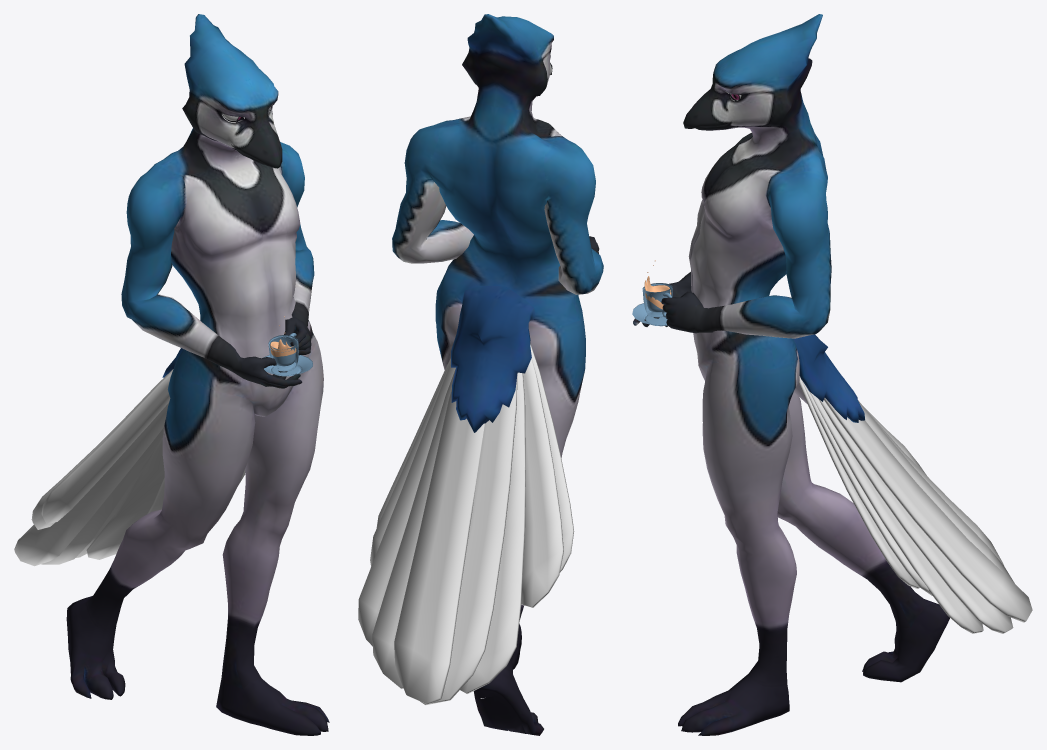
The model's file is SFDraco.gltf.
3 views of the same model, side by side, from view 1: azimuth 30°, elevation 25°; view 2: azimuth 150°, elevation 25°; view 3: azimuth 270°, elevation 25° (orthographic). The views are drawn at different scales.
Visible parts, largest first — view 1: BodyMesh_Naked_003, Plane_006, Plane_017, Plane_008, Plane_001, CupaTea_Plane_018_Dupli_; view 2: BodyMesh_Naked_003, Plane_007, Plane_006, Plane_008, Plane_001, Plane_016, Plane_017; view 3: BodyMesh_Naked_003, Plane_007, Plane_006, Plane_016, Plane_017, Plane_008, Plane_001.
Boxes of the visible parts, box(x1,y1,x2,y2) form: BodyMesh_Naked_003: box(66, 14, 329, 735); Plane_006: box(14, 403, 168, 566); Plane_017: box(41, 370, 245, 523); Plane_008: box(41, 427, 163, 564); Plane_001: box(31, 369, 173, 529); CupaTea_Plane_018_Dupli_: box(268, 335, 298, 371); BodyMesh_Naked_003: box(392, 14, 603, 735); Plane_007: box(394, 389, 484, 704); Plane_006: box(372, 369, 525, 693); Plane_008: box(420, 376, 517, 705); Plane_001: box(370, 358, 563, 607); Plane_016: box(358, 364, 455, 645); Plane_017: box(376, 343, 574, 572); BodyMesh_Naked_003: box(633, 14, 949, 735); Plane_007: box(824, 398, 1032, 622); Plane_006: box(818, 399, 1013, 633); Plane_016: box(809, 391, 983, 633); Plane_017: box(798, 377, 919, 588); Plane_008: box(858, 400, 1014, 583); Plane_001: box(799, 376, 932, 595).
Bounding box in the file's own units: 4977 × 14847 × 7800.
Materials: 5 (2 with a texture image).
